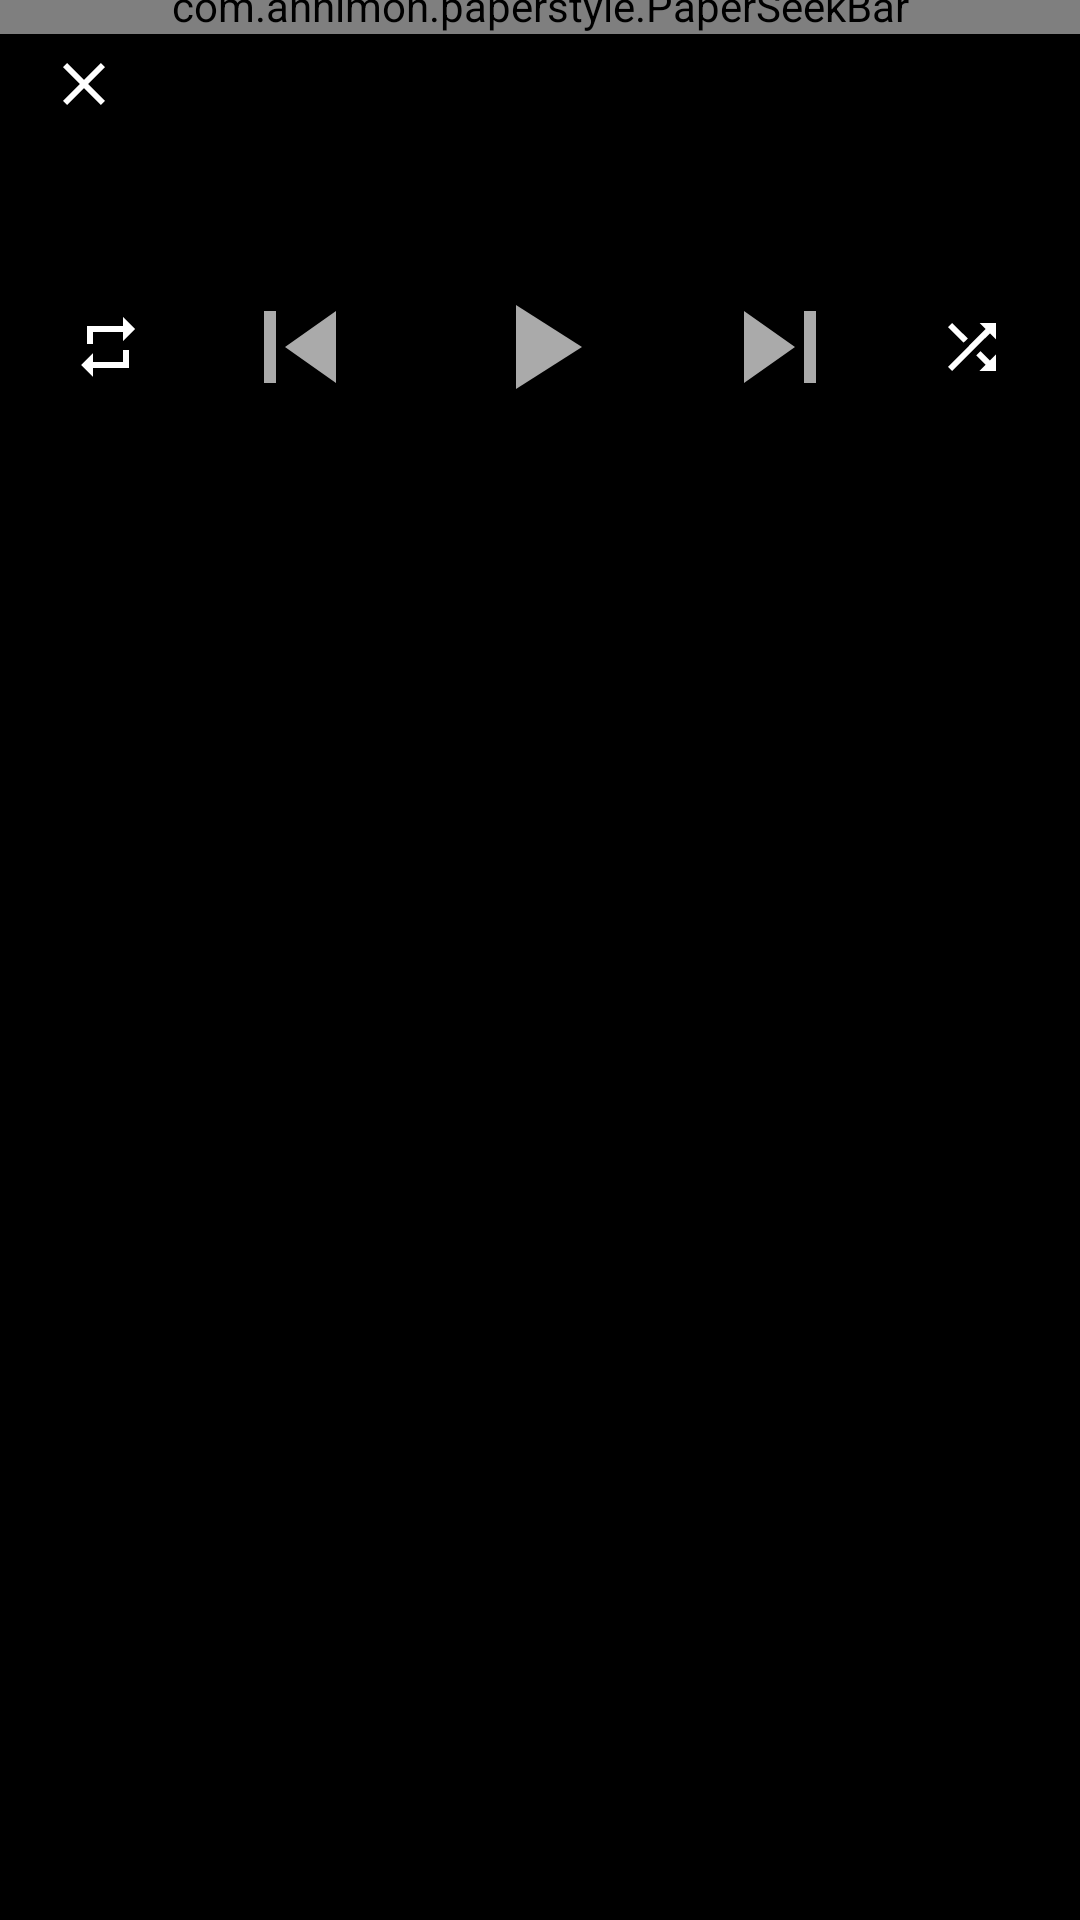

Icons on this 1080×1920 Android screen, each with its box as region(x1, y1, x2, y2):
play arrow: region(516, 305, 582, 389)
repeat: region(81, 317, 135, 377)
shuffle: region(948, 323, 996, 371)
skip next: region(744, 311, 816, 383)
skip previous: region(264, 311, 336, 383)
